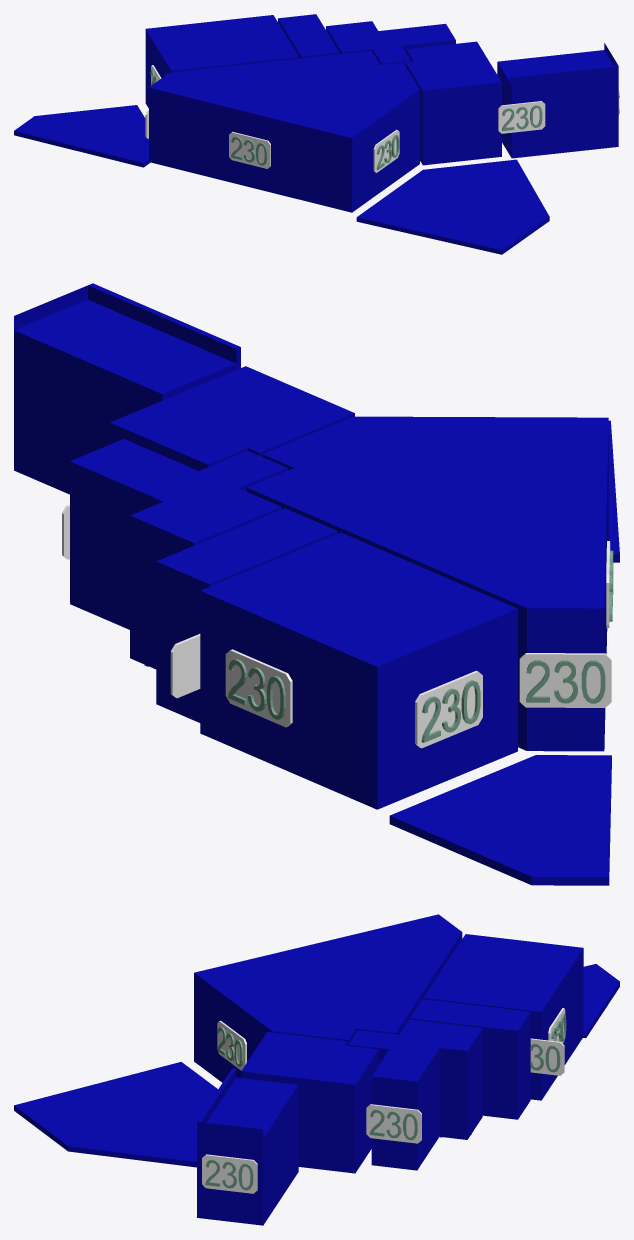
3 views of the same model, one above another, from view 1: azimuth 30°, elevation 25°; view 2: azimuth 150°, elevation 25°; view 3: azimuth 270°, elevation 25° (orthographic). The views are drawn at different scales.
Parts seen in each view (by area): view 1: g_0, g_6, g_5, g_4, g_1, g_7, g_3, g_2, g_39, g_31, g_43; view 2: g_1, g_0, g_5, g_3, g_7, g_4, g_2, g_27, g_35, g_15, g_19, g_6; view 3: g_0, g_6, g_3, g_4, g_1, g_5, g_2, g_7, g_11, g_23, g_19, g_43.
Boxes of the visible parts, x1,y1,x2,y2 form: g_0: (149,50,419,212); g_6: (356,159,549,254); g_5: (497,43,618,158); g_4: (405,41,501,165); g_1: (145,15,298,108); g_7: (14,105,150,167); g_3: (326,21,455,65); g_2: (278,14,339,58); g_39: (498,101,545,133); g_31: (229,131,270,168); g_43: (373,129,399,172); g_1: (200,532,517,809); g_0: (247,416,608,751); g_5: (14,283,240,494); g_3: (70,439,287,669); g_7: (389,755,611,885); g_4: (110,366,354,470); g_2: (156,508,337,722); g_27: (519,653,611,707); g_35: (225,649,292,727); g_15: (415,670,482,748); g_19: (170,634,200,698); g_6: (608,420,619,562); g_0: (194,914,462,1082); g_6: (14,1062,217,1167); g_3: (348,1019,482,1170); g_4: (241,1032,378,1173); g_1: (423,934,583,1100); g_5: (197,1068,298,1225); g_2: (410,999,530,1119); g_7: (583,964,619,1037); g_11: (366,1104,421,1143); g_23: (202,1154,257,1193); g_19: (530,1038,564,1075); g_43: (217,1020,246,1070).
Bounding box in the file's own units: 15.8 × 2.85 × 15.43.
